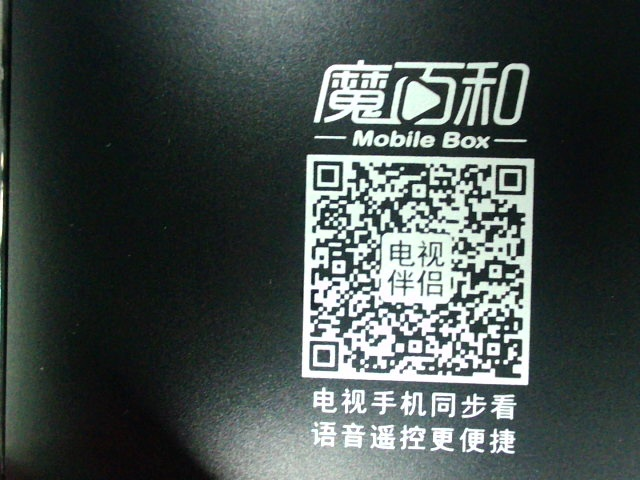AZ_MobileBox: (297, 48, 541, 455)
